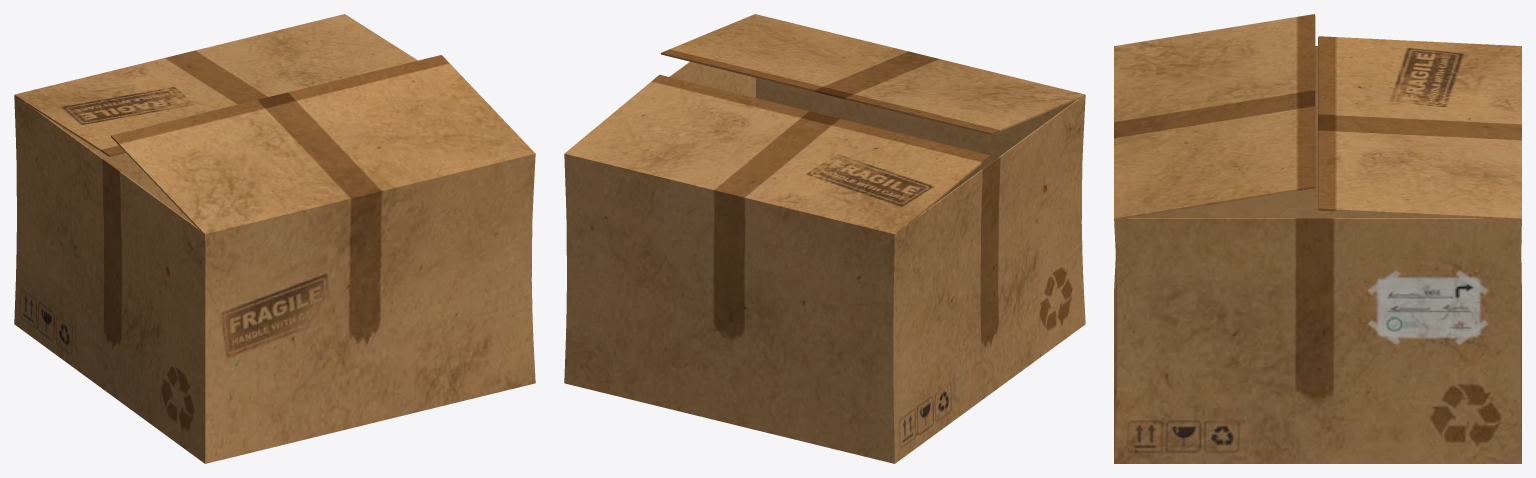
3 renders of one model, left to right at view 1: azimuth 30°, elevation 25°; view 2: azimuth 150°, elevation 25°; view 3: azimuth 270°, elevation 25°, orthographic. The views are drawn at different scales.
Parts seen in each view (by area): view 1: Cube; view 2: Cube; view 3: Cube.
Part boxes in pixels (box(x1,y1,x2,y2)): Cube: box(14, 14, 535, 463); Cube: box(564, 14, 1085, 463); Cube: box(1114, 14, 1521, 463).
Bounding box in the file's own units: 0.8039 × 0.6036 × 0.8039.
1 material, 1 textured.
